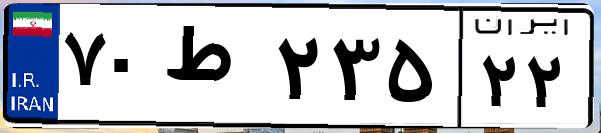0: (110, 28, 158, 98)
2: (270, 28, 330, 110), (475, 38, 525, 113), (525, 38, 570, 115)
3: (330, 28, 385, 110)
5: (385, 28, 445, 110)
7: (57, 26, 110, 100)
ط: (158, 20, 270, 120)
